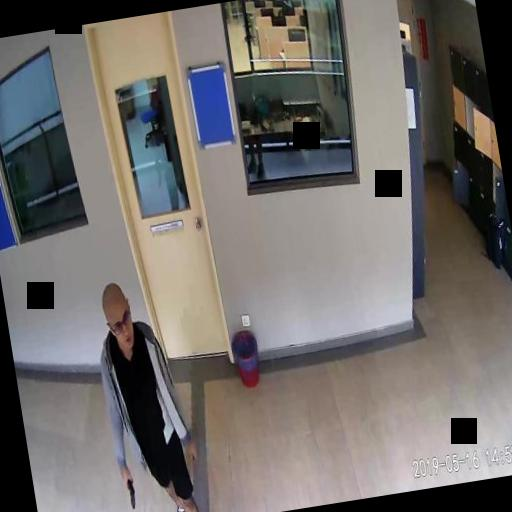Handgun: (122, 474, 136, 508)
